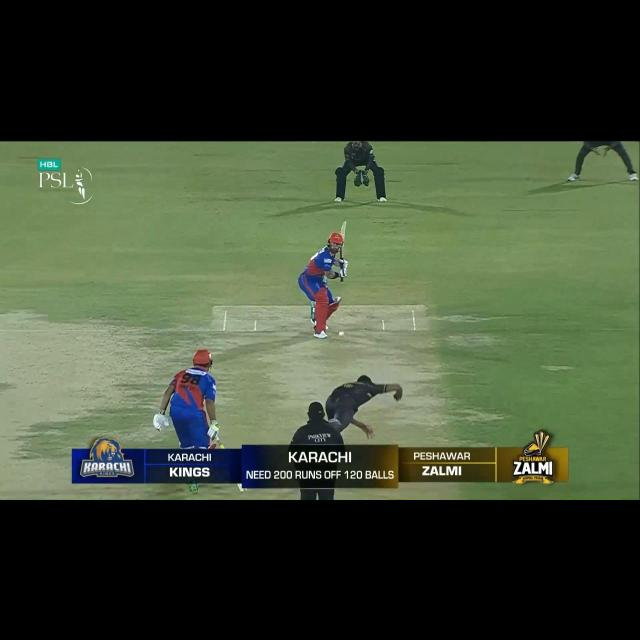bat: (337, 216, 350, 254)
toe: (338, 220, 348, 237), (238, 483, 245, 493)
